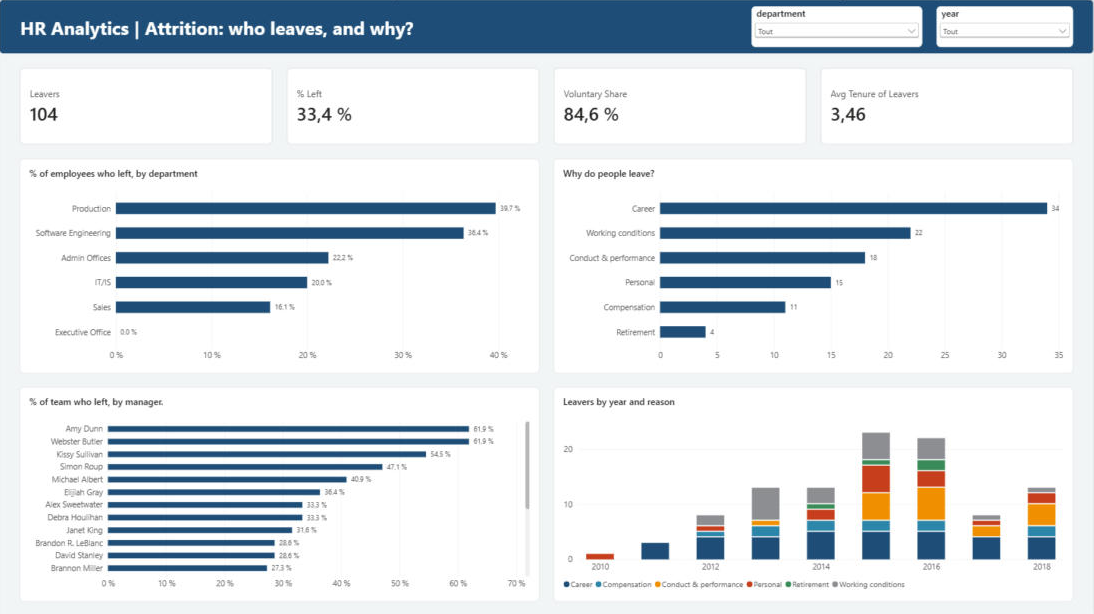

What the dashboard file says about the page in this screenshot:
{"tool":"powerbi","page":{"name":"Attrition","canvas":[1920,1080],"ordinal":2},"visuals":[{"type":"shape","box":[0,0,1920,96],"z":0},{"type":"cardVisual","fields":{"Data":["_Measures.Leavers"]},"box":[36,120,444,135],"z":2000},{"type":"cardVisual","fields":{"Data":["_Measures.% Left"]},"box":[504,120,444,135],"z":3000},{"type":"cardVisual","fields":{"Data":["_Measures.Voluntary Share"]},"box":[972,120,444,135],"z":4000},{"type":"cardVisual","fields":{"Data":["_Measures.Avg Tenure of Leavers"]},"box":[1440,120,444,135],"z":5000},{"type":"clusteredBarChart","title":"Why do people leave?","fields":{"Category":["dim_term_reason.term_reason_category"],"Y":["_Measures.Leavers"]},"box":[972,279,912,377],"z":6000},{"type":"clusteredBarChart","title":"% of employees who left, by department","fields":{"Category":["dim_department.department_name"],"Y":["_Measures.% Left"]},"box":[36,279,912,377],"z":7000},{"type":"clusteredBarChart","title":"% of team who left, by manager.","fields":{"Category":["dim_manager.manager_name"],"Y":["_Measures.% Left"]},"box":[36,680,912,377],"z":8000},{"type":"columnChart","title":"Leavers by year and reason","fields":{"Category":["dim_date.year"],"Series":["dim_term_reason.term_reason_category"],"Y":["_Measures.Leavers by Termination Date"]},"box":[972,680,912,377],"z":9000},{"type":"slicer","fields":{"Values":["dim_date.year"]},"box":[1644,12,240,72],"z":10000},{"type":"slicer","fields":{"Values":["dim_department.department_name"]},"box":[1320,12,300,72],"z":11000}]}

Visuals, with their boxes in screenshot pixels (x1, y1, x2, y2), scaled from the page's 1920x1080 canvas onto the 1094x614 screenshot:
shape: (x1=0, y1=0, x2=1093, y2=55)
cardVisual - _Measures.Leavers: (x1=21, y1=68, x2=274, y2=145)
cardVisual - _Measures.% Left: (x1=287, y1=68, x2=540, y2=145)
cardVisual - _Measures.Voluntary Share: (x1=554, y1=68, x2=807, y2=145)
cardVisual - _Measures.Avg Tenure of Leavers: (x1=820, y1=68, x2=1073, y2=145)
"Why do people leave?" clusteredBarChart: (x1=554, y1=159, x2=1073, y2=373)
"% of employees who left, by department" clusteredBarChart: (x1=21, y1=159, x2=540, y2=373)
"% of team who left, by manager." clusteredBarChart: (x1=21, y1=387, x2=540, y2=601)
"Leavers by year and reason" columnChart: (x1=554, y1=387, x2=1073, y2=601)
slicer - dim_date.year: (x1=937, y1=7, x2=1073, y2=48)
slicer - dim_department.department_name: (x1=752, y1=7, x2=923, y2=48)
